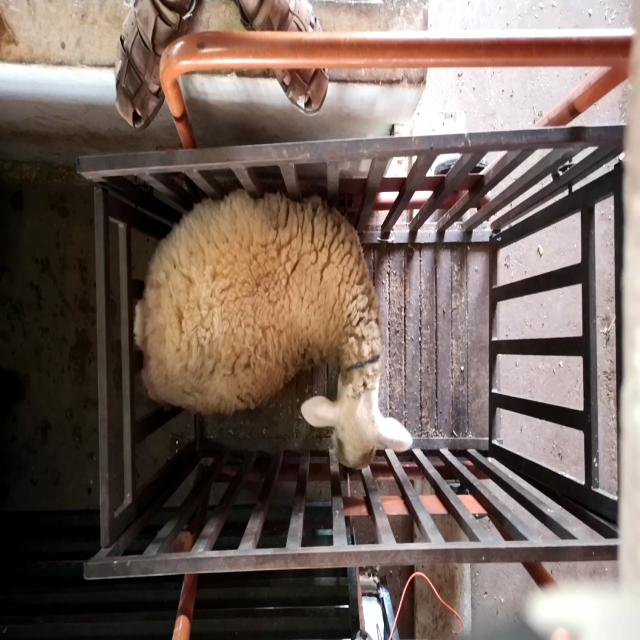sheep: (134, 188, 415, 471)
